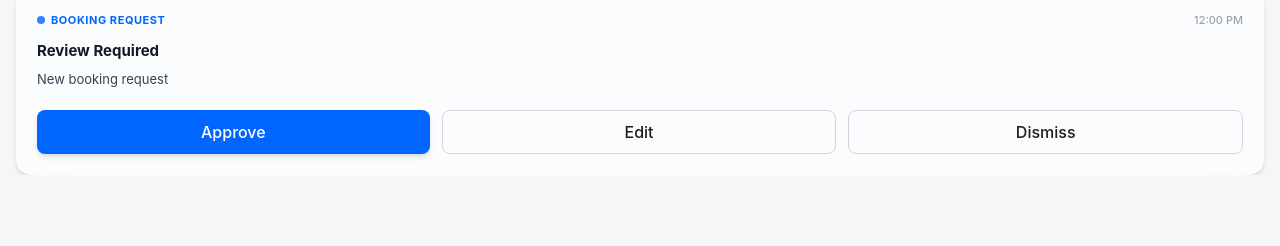
Test: FeedPage › renders actions for a pending booking and removes it after approval
Check: the heading "Review Required" is shown, box [37, 40, 159, 60]
Check: the text "New booking request" is shown, box [37, 71, 168, 87]
Click the button "Approve".
click(233, 132)  # box [37, 110, 430, 154]
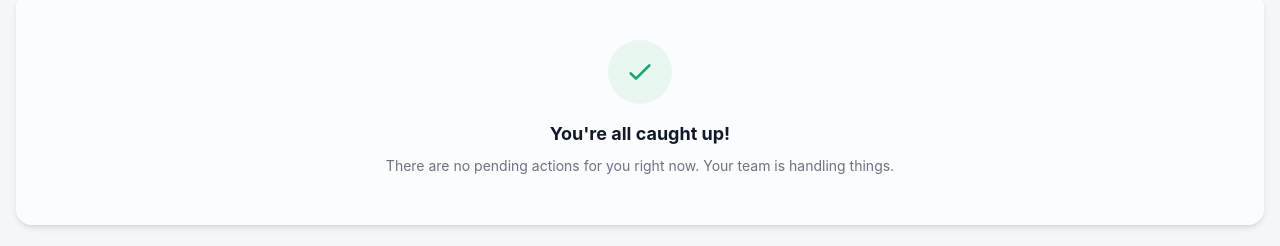
Check: the heading "Review Required" is gone
